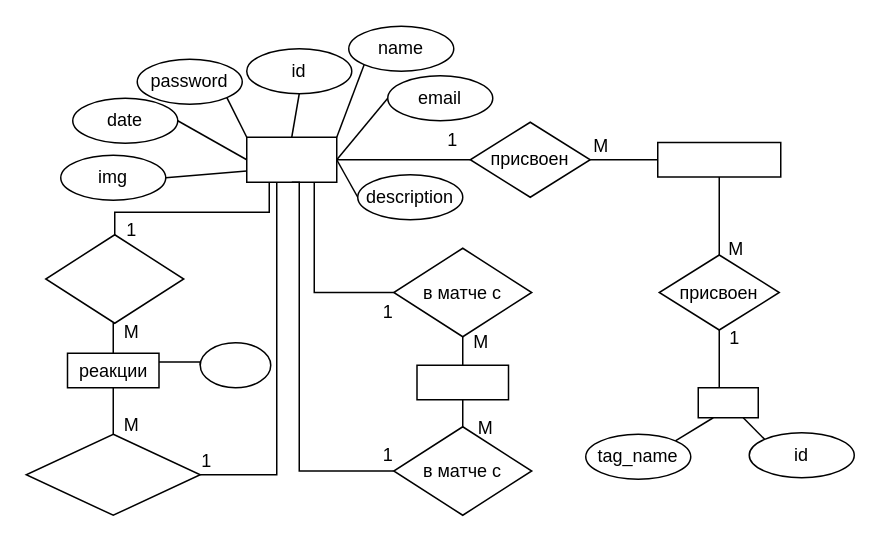
Some shapes in this 881 by 542 pixel diagram are drawn without their labels. Here are the shapes that lost their labels. From the top down, the centre of each, then its label:
At pixel 291 159: "Профиль".
At pixel 718 159: "профиль_тэг".
At pixel 114 278: "среагировал".
At pixel 235 364: "тип".
At pixel 462 382: "матчи".
At pixel 727 402: "тэг".
At pixel 112 474: "среагировали на".
